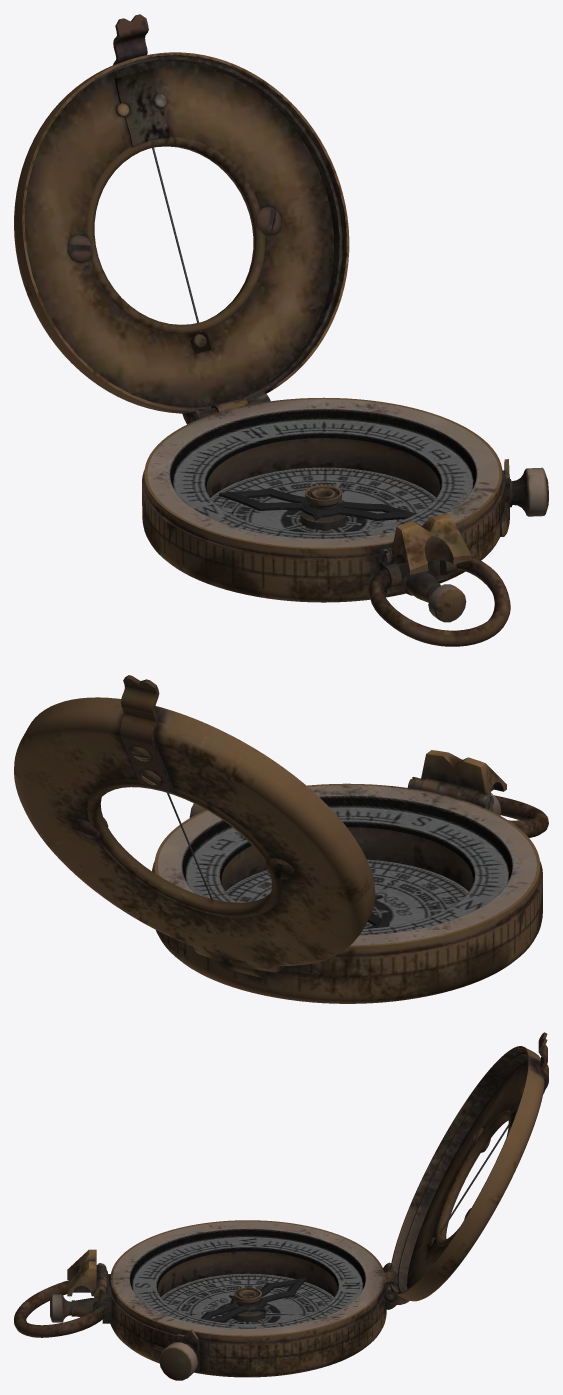
File: seadogs_compass.glb
3 renders of one model, top to bottom at view 1: azimuth 30°, elevation 25°; view 2: azimuth 150°, elevation 25°; view 3: azimuth 270°, elevation 25°, orthographic. The views are drawn at different scales.
Parts seen in each view (by area): view 1: seadogs_compass_lid, seadogs_compass, seadogs_compass_needle; view 2: seadogs_compass_lid, seadogs_compass; view 3: seadogs_compass, seadogs_compass_lid, seadogs_compass_needle.
Part boxes in pixels (x1,y1,x2,y2): seadogs_compass_lid: (14,14,349,424); seadogs_compass: (142,397,548,646); seadogs_compass_needle: (219,488,415,520); seadogs_compass_lid: (14,675,375,972); seadogs_compass: (152,750,548,1003); seadogs_compass: (14,1220,397,1380); seadogs_compass_lid: (382,1032,548,1305); seadogs_compass_needle: (201,1278,306,1322).
Bounding box in the file's own units: 0.0813 × 0.0866 × 0.1441.
1 material, 1 textured.
